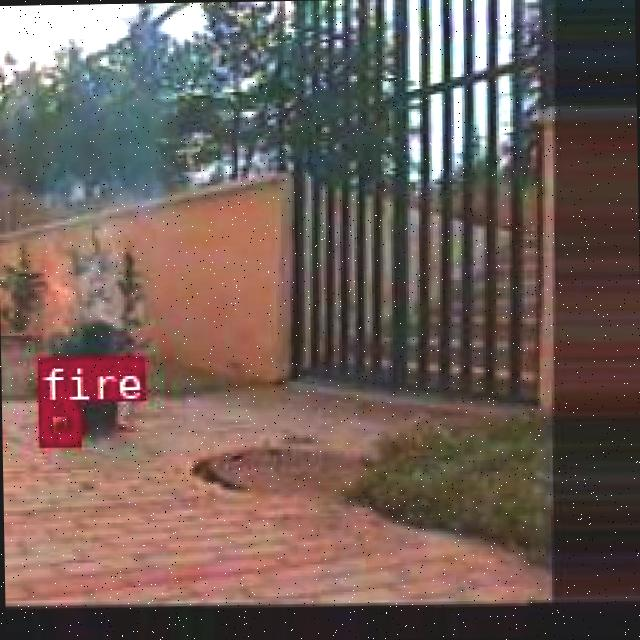fire: (36, 400, 76, 444)
